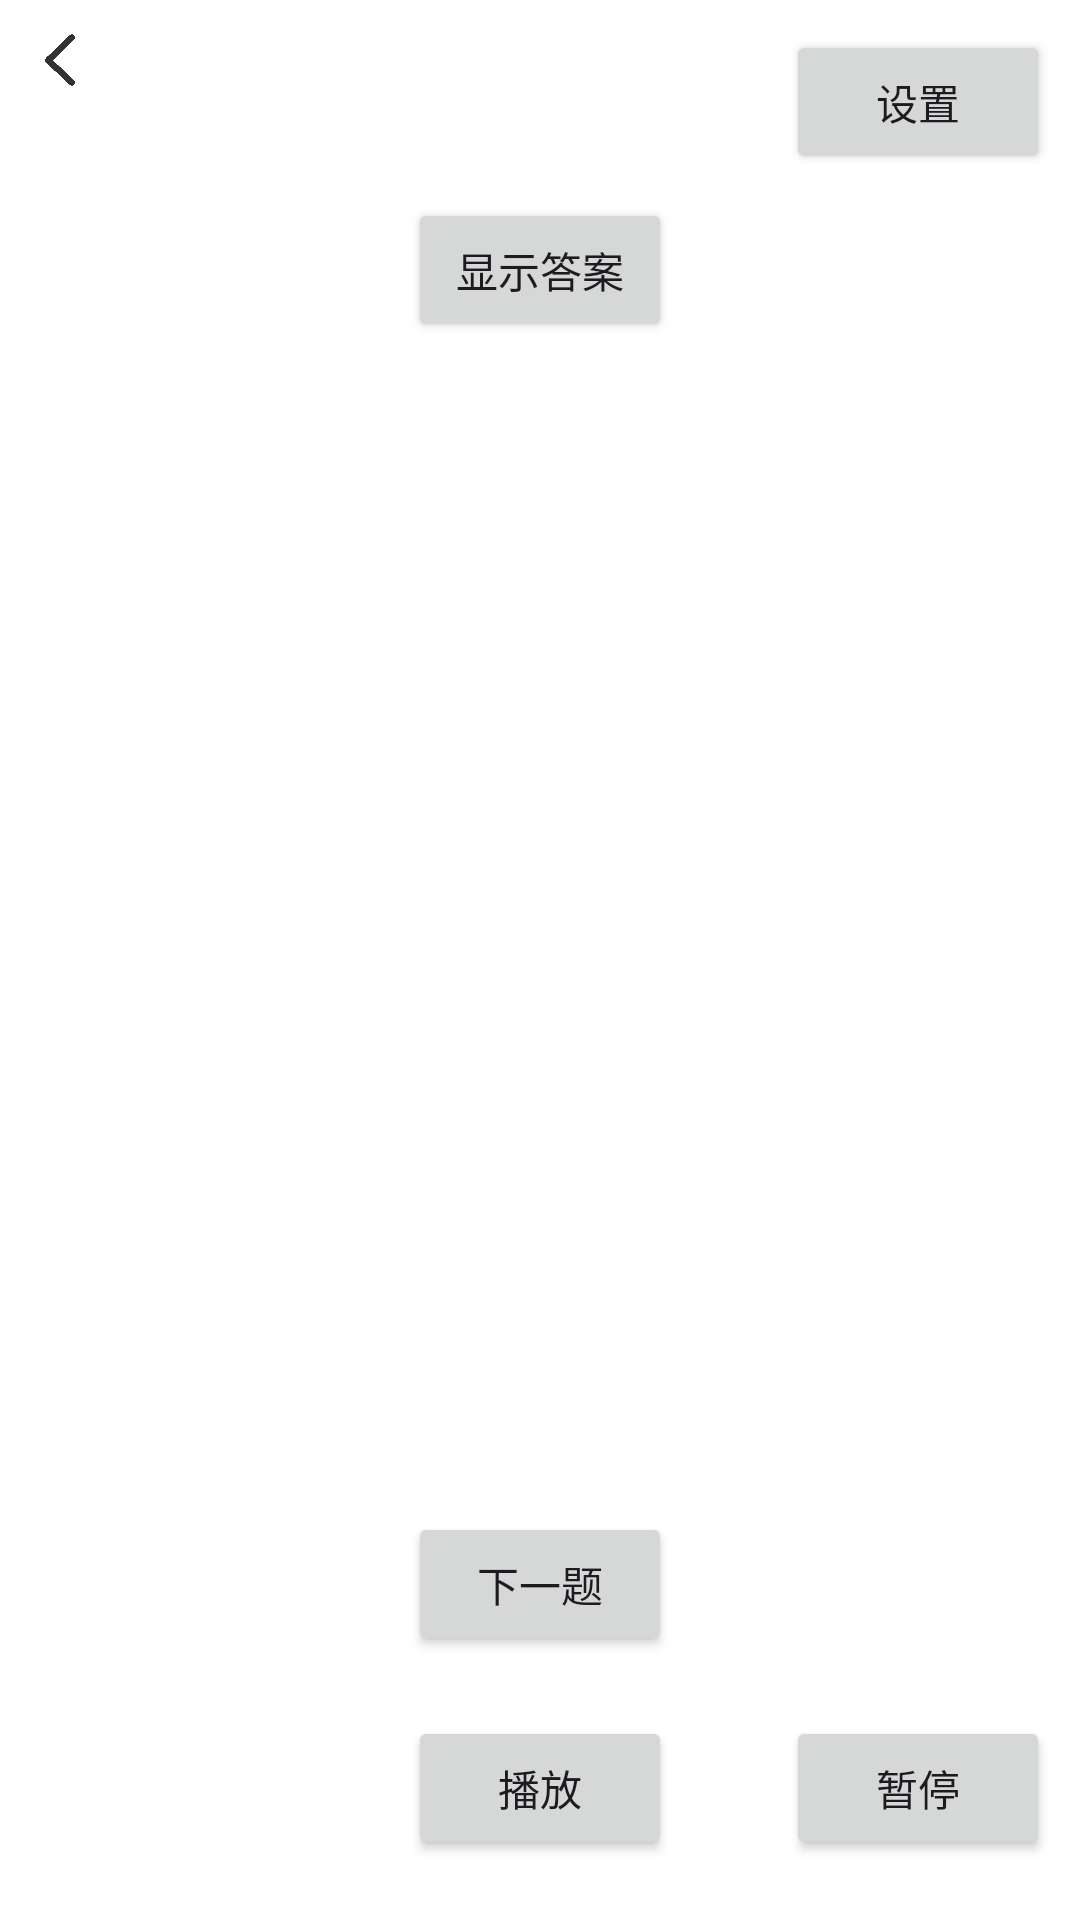

Icon click points for this 1080w x 1920h phone screenshot, format (x=x, y=y):
back: (x=60, y=60)
